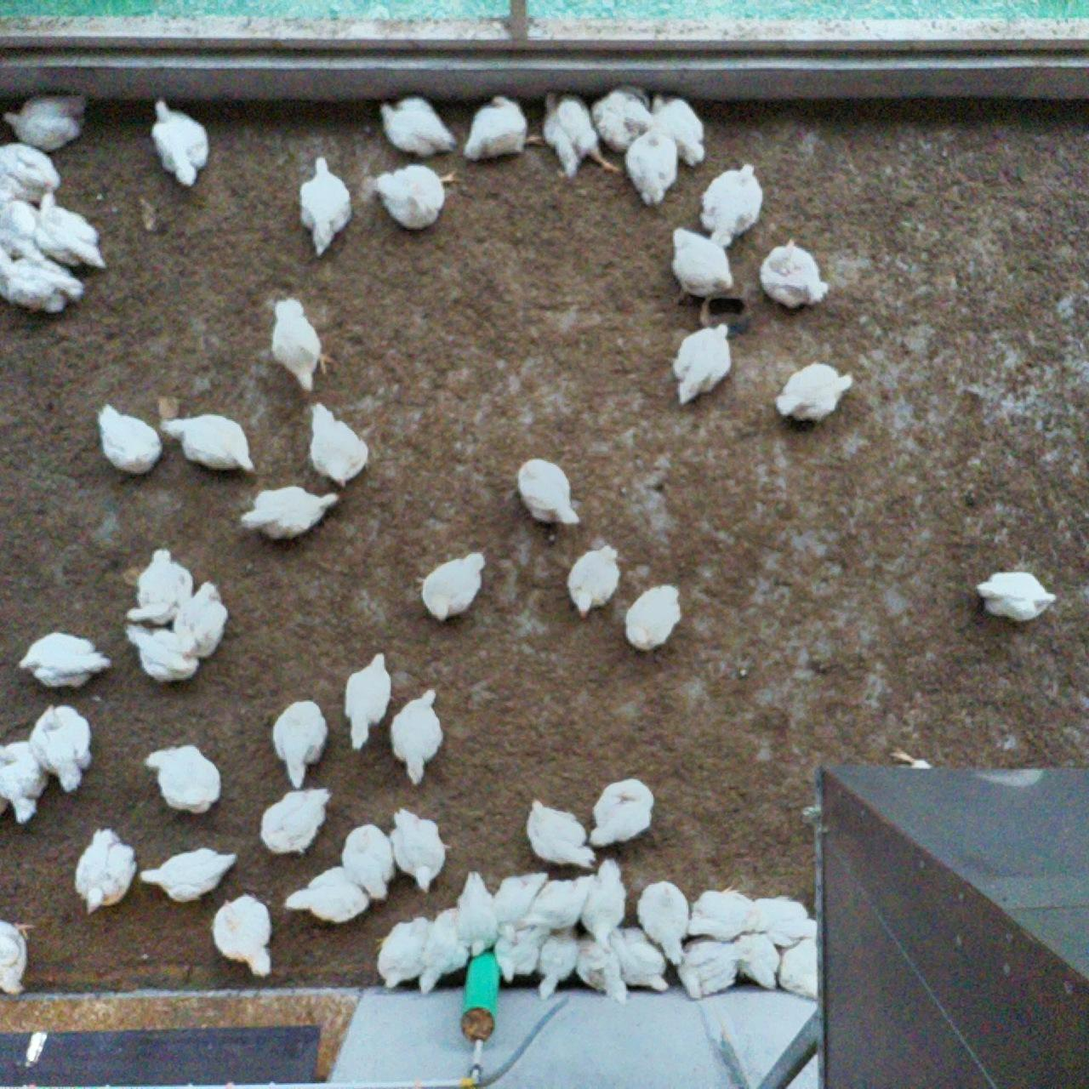chicken: (539, 85, 622, 195), (368, 158, 466, 242), (31, 179, 110, 274), (659, 319, 740, 409), (268, 293, 336, 396), (668, 223, 737, 324), (300, 396, 374, 490), (16, 627, 117, 695), (235, 482, 342, 545), (160, 412, 260, 479), (147, 95, 216, 192), (768, 357, 858, 431), (385, 803, 455, 898), (386, 682, 448, 789), (139, 742, 226, 818), (29, 700, 100, 793), (71, 823, 141, 917), (460, 91, 545, 167), (754, 236, 832, 318), (137, 844, 240, 906), (296, 154, 355, 260), (697, 162, 769, 248), (125, 544, 199, 627), (210, 892, 278, 982), (0, 89, 92, 155), (268, 697, 333, 790), (410, 549, 489, 625), (511, 454, 587, 533), (281, 862, 373, 927), (257, 784, 334, 859), (0, 254, 88, 318), (121, 620, 203, 688), (342, 647, 395, 752), (96, 398, 162, 482), (378, 94, 461, 160), (974, 568, 1061, 630), (588, 774, 658, 851), (623, 116, 681, 208), (0, 736, 58, 828), (415, 904, 472, 997), (634, 876, 691, 967), (170, 578, 231, 663), (523, 797, 595, 869), (517, 872, 595, 936), (563, 543, 626, 621), (622, 580, 687, 654), (590, 81, 651, 159), (339, 821, 397, 903), (490, 868, 550, 946), (609, 921, 674, 993), (375, 912, 433, 992), (685, 878, 758, 941), (675, 931, 740, 1001), (648, 92, 709, 166), (575, 931, 633, 1008), (579, 856, 630, 943), (454, 868, 499, 961), (0, 138, 64, 203), (749, 893, 817, 946), (731, 928, 784, 994), (535, 930, 581, 1003), (0, 915, 38, 1003), (492, 925, 546, 985), (0, 198, 48, 259), (777, 933, 820, 1001)
